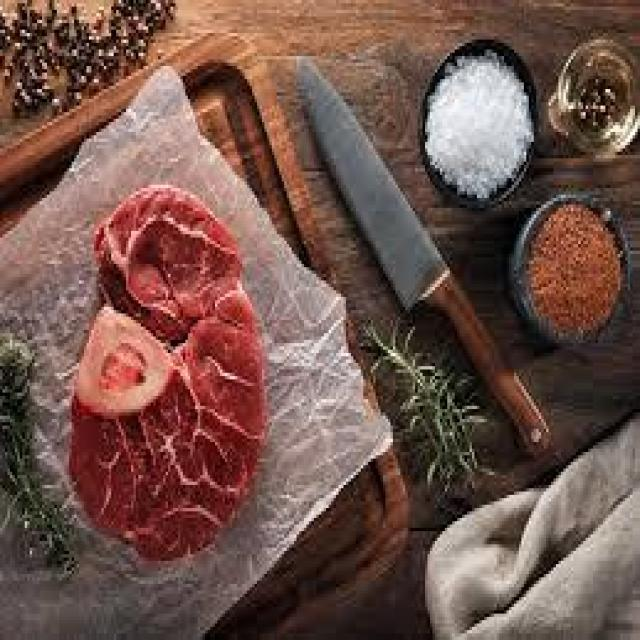beef: (74, 205, 278, 550)
